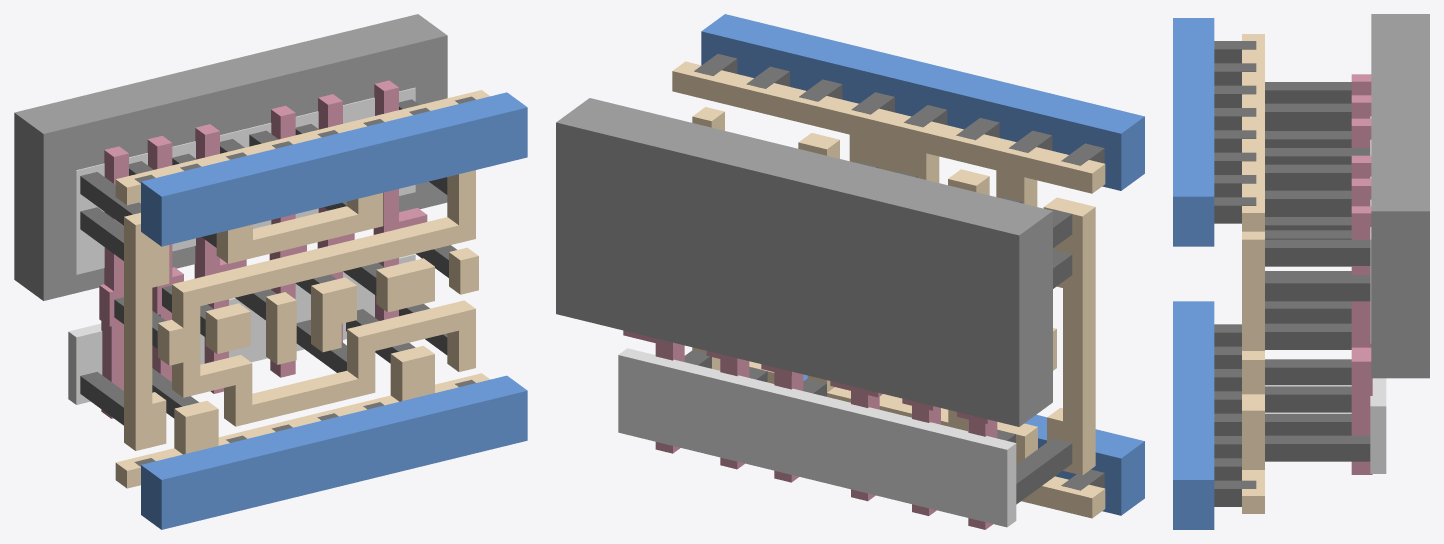
File: sky130_fd_sc_hd__a311o_1.gds.gltf
3 views of the same model, side by side, from view 1: azimuth 30°, elevation 25°; view 2: azimuth 150°, elevation 25°; view 3: azimuth 270°, elevation 25° (orthographic). The views are drawn at different scales.
Visible parts, largest first — view 1: sky130_fd_sc_hd__a311o_1_li1, sky130_fd_sc_hd__a311o_1_met1, sky130_fd_sc_hd__a311o_1_nwell, sky130_fd_sc_hd__a311o_1_poly, sky130_fd_sc_hd__a311o_1_licon, sky130_fd_sc_hd__a311o_1_diff, sky130_fd_sc_hd__a311o_1_mcon; view 2: sky130_fd_sc_hd__a311o_1_nwell, sky130_fd_sc_hd__a311o_1_diff, sky130_fd_sc_hd__a311o_1_li1, sky130_fd_sc_hd__a311o_1_met1, sky130_fd_sc_hd__a311o_1_mcon, sky130_fd_sc_hd__a311o_1_poly, sky130_fd_sc_hd__a311o_1_licon; view 3: sky130_fd_sc_hd__a311o_1_licon, sky130_fd_sc_hd__a311o_1_nwell, sky130_fd_sc_hd__a311o_1_met1, sky130_fd_sc_hd__a311o_1_mcon, sky130_fd_sc_hd__a311o_1_li1, sky130_fd_sc_hd__a311o_1_poly, sky130_fd_sc_hd__a311o_1_diff.
Part boxes in pixels (<box>): sky130_fd_sc_hd__a311o_1_li1: <box>115,90,489,488</box>; sky130_fd_sc_hd__a311o_1_met1: <box>141,92,527,529</box>; sky130_fd_sc_hd__a311o_1_nwell: <box>14,14,447,300</box>; sky130_fd_sc_hd__a311o_1_poly: <box>99,80,427,418</box>; sky130_fd_sc_hd__a311o_1_licon: <box>80,99,456,425</box>; sky130_fd_sc_hd__a311o_1_diff: <box>68,87,415,404</box>; sky130_fd_sc_hd__a311o_1_mcon: <box>134,96,475,466</box>; sky130_fd_sc_hd__a311o_1_nwell: <box>556,98,1052,426</box>; sky130_fd_sc_hd__a311o_1_diff: <box>618,348,1016,527</box>; sky130_fd_sc_hd__a311o_1_li1: <box>672,61,1105,518</box>; sky130_fd_sc_hd__a311o_1_met1: <box>701,14,1144,515</box>; sky130_fd_sc_hd__a311o_1_mcon: <box>694,54,1104,490</box>; sky130_fd_sc_hd__a311o_1_poly: <box>623,330,997,529</box>; sky130_fd_sc_hd__a311o_1_licon: <box>684,162,1072,504</box>; sky130_fd_sc_hd__a311o_1_licon: <box>1265,82,1370,461</box>; sky130_fd_sc_hd__a311o_1_nwell: <box>1371,14,1429,378</box>; sky130_fd_sc_hd__a311o_1_met1: <box>1173,18,1214,529</box>; sky130_fd_sc_hd__a311o_1_mcon: <box>1214,41,1256,506</box>; sky130_fd_sc_hd__a311o_1_li1: <box>1242,34,1264,513</box>; sky130_fd_sc_hd__a311o_1_poly: <box>1351,74,1372,474</box>; sky130_fd_sc_hd__a311o_1_diff: <box>1370,74,1386,473</box>.
Bounding box in the file's own units: 4.06 × 3.2 × 2.24.
